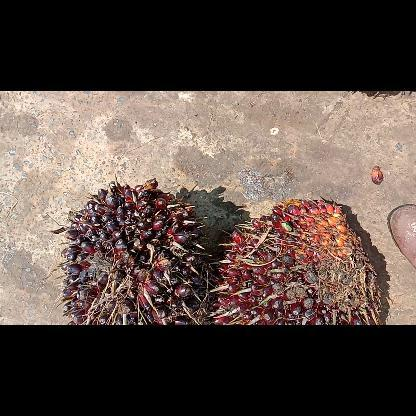TBS mentah: (54, 178, 209, 324), (214, 198, 386, 324)
